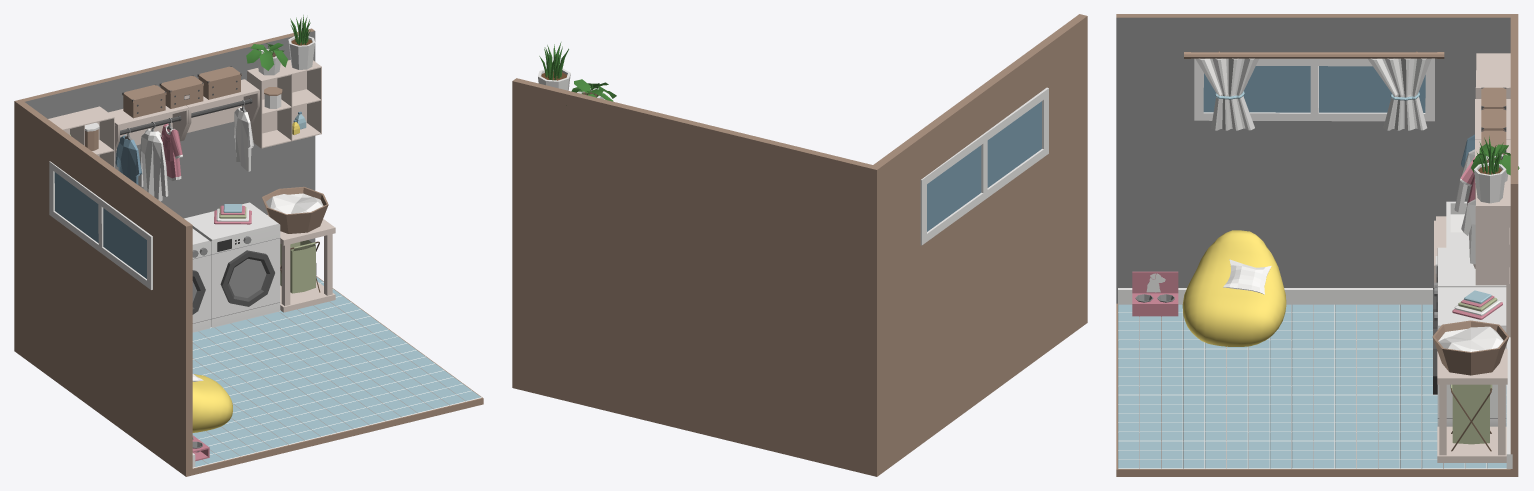
File: Room_18_Laundry.fbx
The picture shows the model from 3 angles, left to right: view 1: azimuth 30°, elevation 25°; view 2: azimuth 150°, elevation 25°; view 3: azimuth 270°, elevation 25°; orthographic projection. The views are drawn at different scales.
Visible parts, largest first — view 1: Base_Room_18, Floortile_Room_18, Dryer_Room_18, Window_Room_18, Shelf_3_Room_18, Table_Room_18, Basket_2_Room_18, Shelf_2_Room_18, Pouf_Room_18, Washer_Room_18, Shelf_4_Room_18, Shelf_1_Room_18 (+11 smaller); view 2: Base_Room_18, Window_Room_18, Flower_2_Room_18; view 3: Base_Room_18, Floortile_Room_18, Window_Room_18, Pouf_Room_18, Curtain_Room_18, Table_Room_18, Skirting_Room_18, Basket_2_Room_18, Shelf_3_Room_18, Dryer_Room_18, Basket_1_Room_18, Food_stand_Room_18 (+12 smaller).
Boxes of the visible parts, bbox=[...] form: Base_Room_18: bbox=[14, 28, 483, 476]; Floortile_Room_18: bbox=[192, 277, 481, 468]; Dryer_Room_18: bbox=[184, 202, 280, 327]; Window_Room_18: bbox=[49, 161, 152, 289]; Shelf_3_Room_18: bbox=[247, 60, 321, 148]; Table_Room_18: bbox=[267, 215, 335, 312]; Basket_2_Room_18: bbox=[262, 186, 328, 233]; Shelf_2_Room_18: bbox=[182, 79, 259, 140]; Pouf_Room_18: bbox=[192, 374, 232, 432]; Washer_Room_18: bbox=[192, 228, 210, 332]; Shelf_4_Room_18: bbox=[48, 106, 114, 167]; Shelf_1_Room_18: bbox=[108, 105, 188, 153]; Base_Room_18: bbox=[512, 14, 1087, 476]; Window_Room_18: bbox=[920, 87, 1048, 245]; Flower_2_Room_18: bbox=[538, 42, 570, 90]; Base_Room_18: bbox=[1116, 14, 1518, 476]; Floortile_Room_18: bbox=[1118, 304, 1506, 468]; Window_Room_18: bbox=[1194, 58, 1434, 121]; Pouf_Room_18: bbox=[1182, 230, 1286, 346]; Curtain_Room_18: bbox=[1184, 51, 1444, 130]; Table_Room_18: bbox=[1437, 348, 1507, 462]; Skirting_Room_18: bbox=[1118, 288, 1512, 468]; Basket_2_Room_18: bbox=[1432, 320, 1508, 375]; Shelf_3_Room_18: bbox=[1475, 174, 1510, 285]; Dryer_Room_18: bbox=[1433, 287, 1506, 426]; Basket_1_Room_18: bbox=[1450, 384, 1492, 451]; Food_stand_Room_18: bbox=[1132, 271, 1178, 316].
Size of the model in its own units: 503 by 501 by 448.
